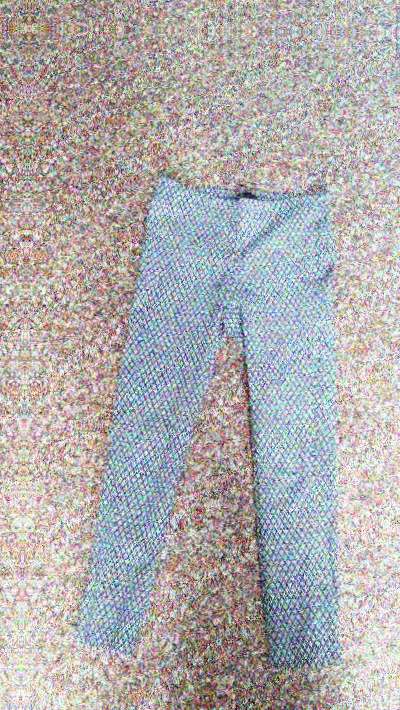Pants: (67, 134, 384, 682)
